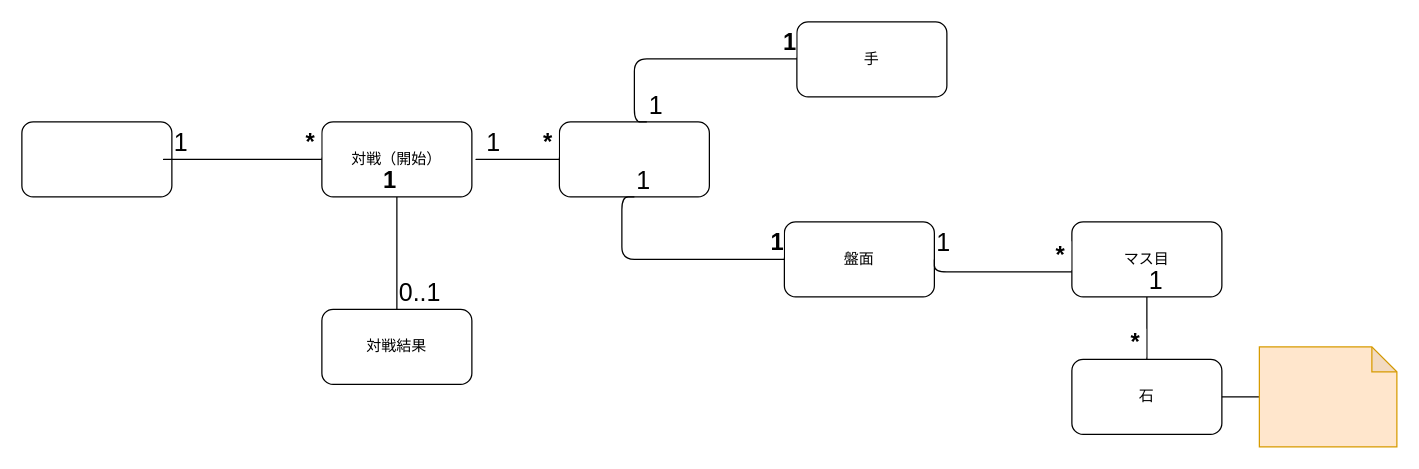
This 1419x469 diagram has some shape labels left out. The shapes that lost their labels are listed below. From the top down, each one's centre as x and y in pixels, then its label:
point (96, 159): player
point (633, 159): ターン
point (1327, 396): 白と黒がある
